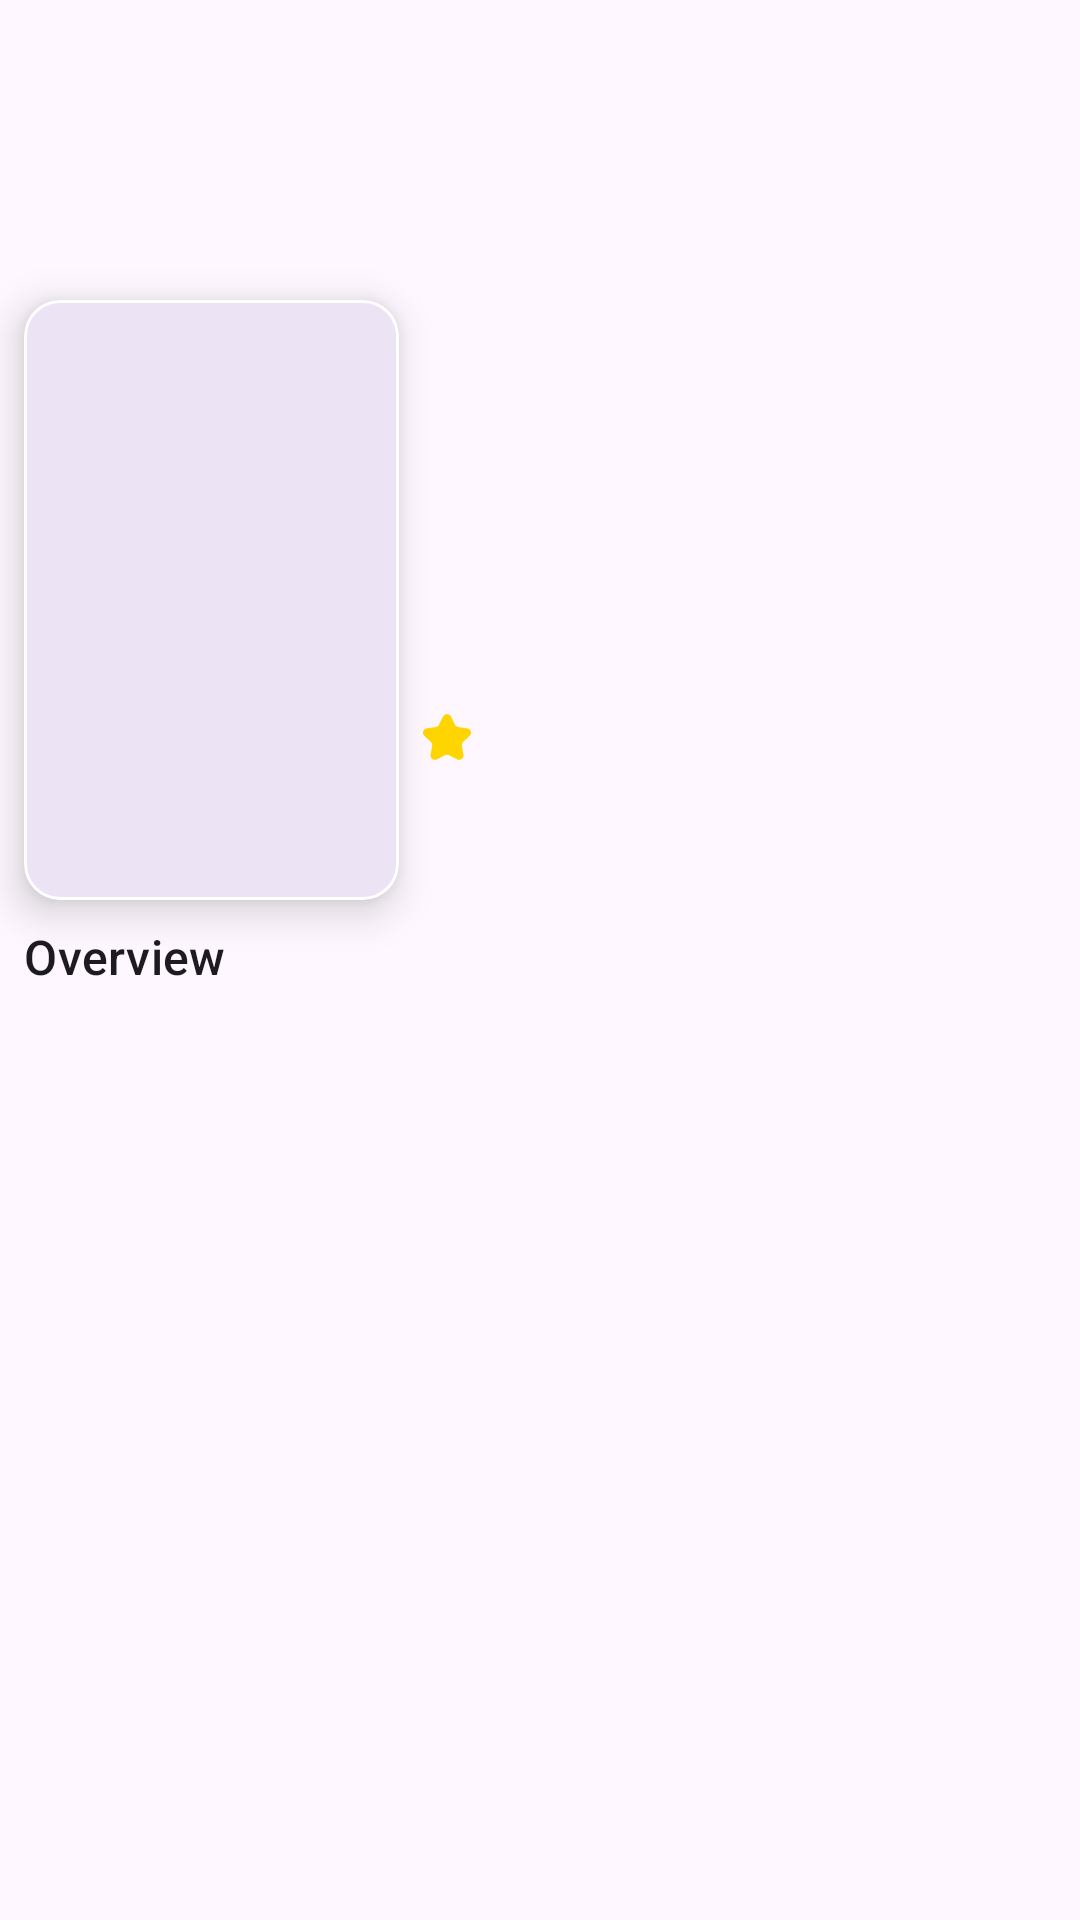

Named icons in this screenshot (1080px x 1920px) and their bounding boxes, (x1, y1, x2, y2):
star: (423, 714, 471, 760)
